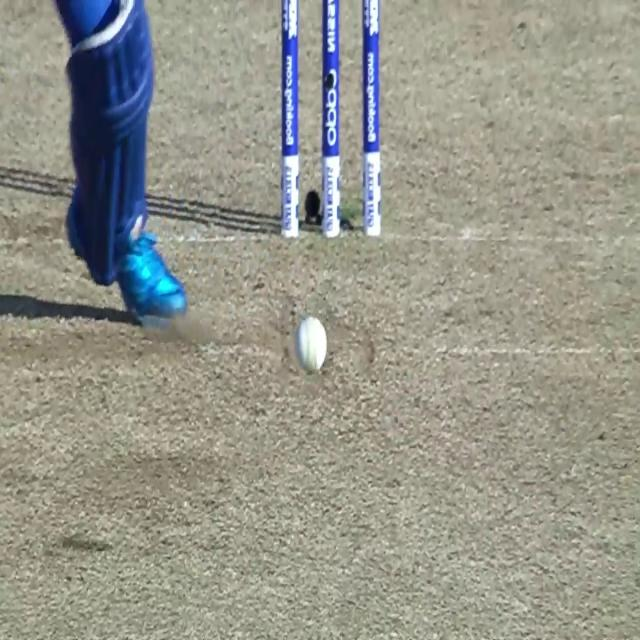ball: (295, 316, 327, 374)
